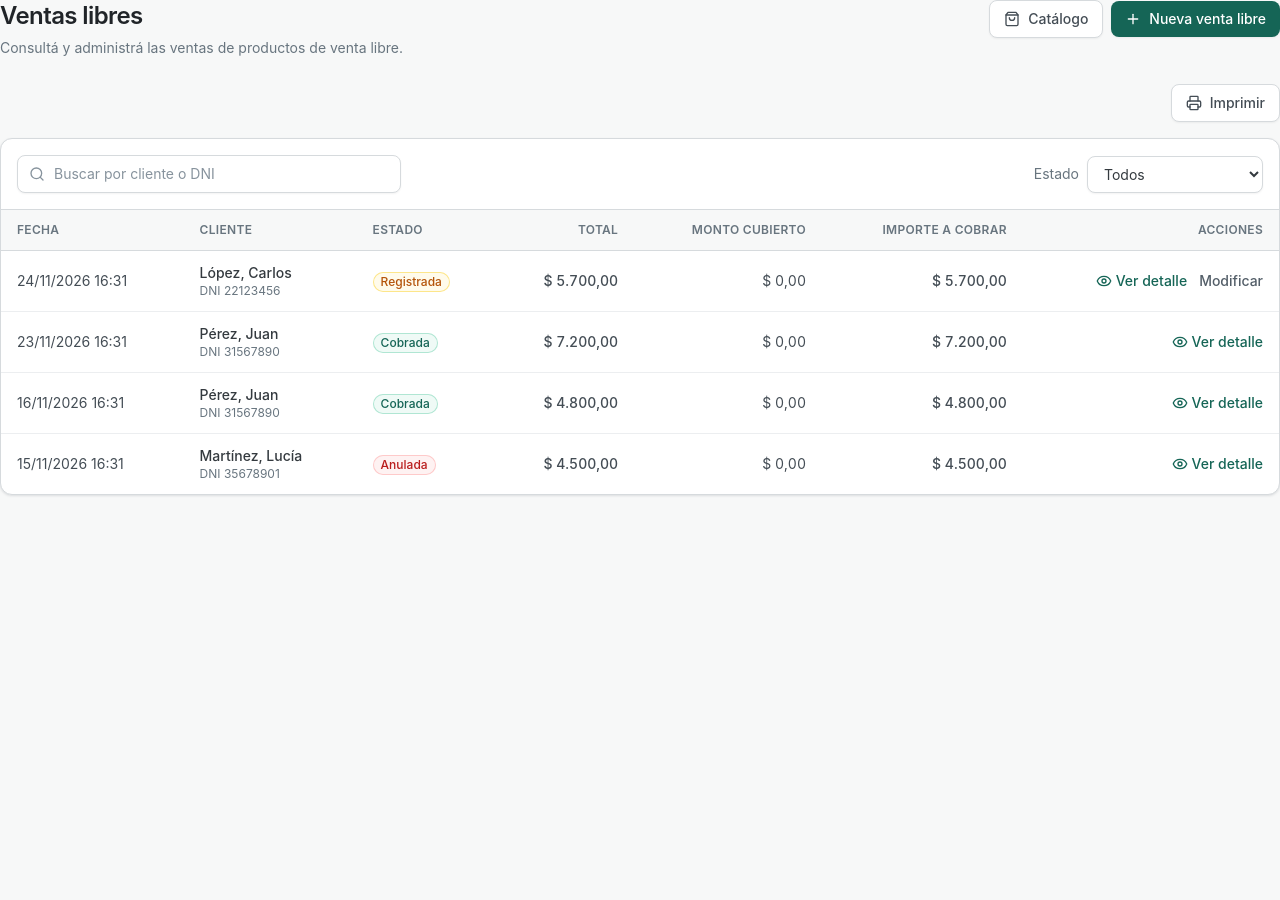
Test: la impresión respeta el filtro de ventas
Expected: the button "Imprimir" is enabled, left=1171, top=84, right=1279, bottom=122
Select "Registradas" in the dropdown labelled "Estado" at x=1175, y=174, box left=1087, top=156, right=1263, bottom=192
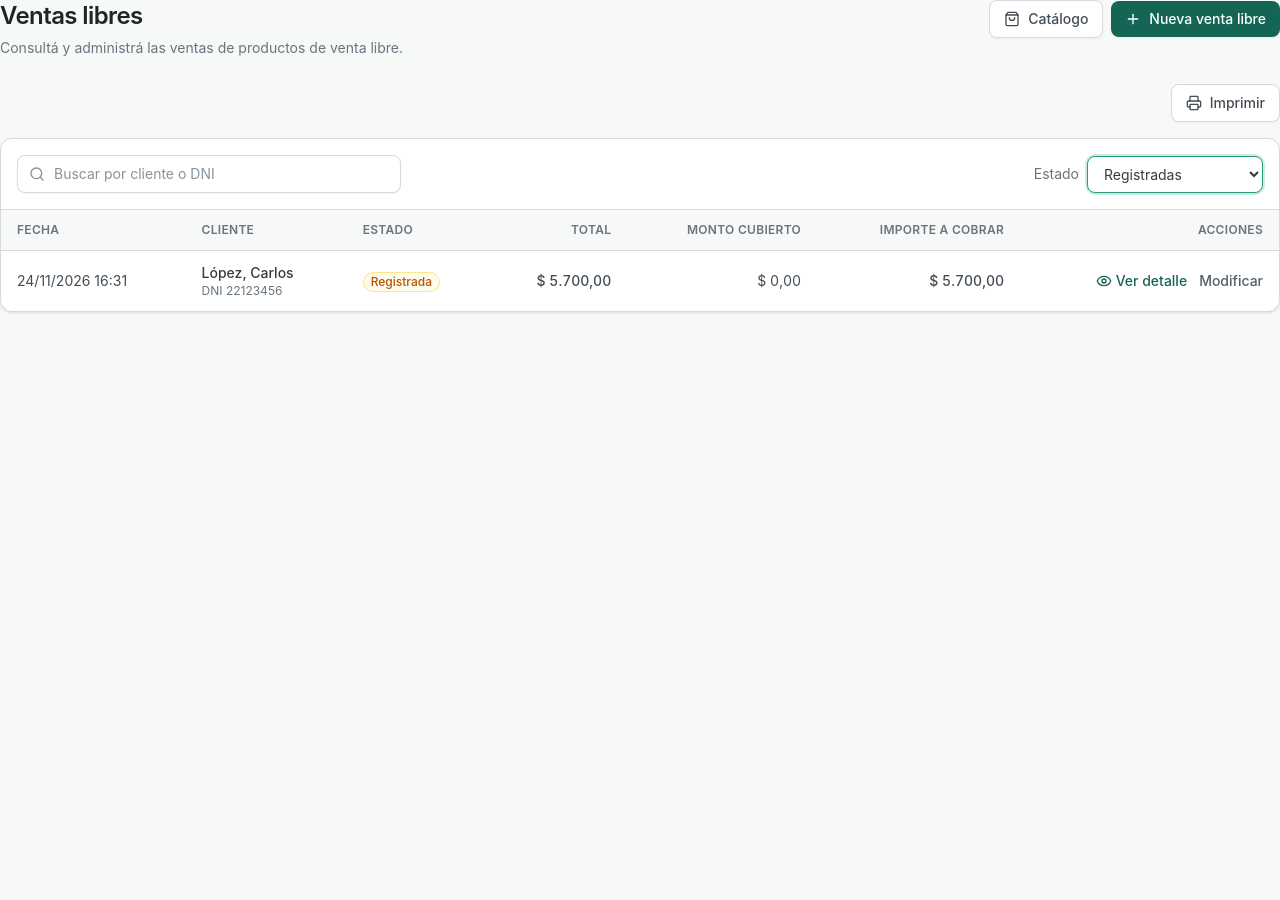
Expected: the row that starts with "López" is shown, left=1, top=250, right=1279, bottom=311
Click the button "Imprimir" at x=1225, y=103, box left=1171, top=84, right=1279, bottom=122
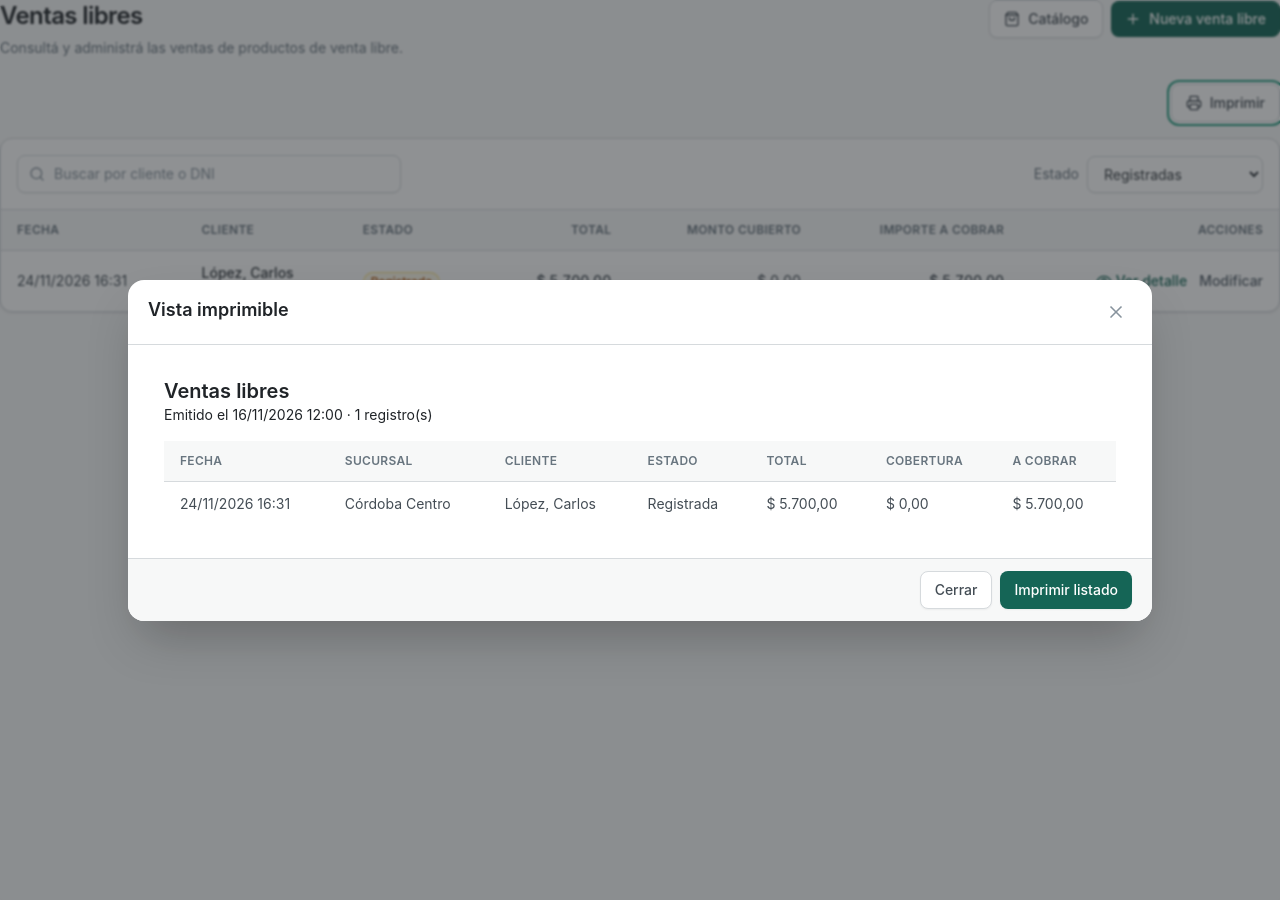
Expected: the text "Cobrada" is not shown
Now the text "Registrada" is shown once, box left=632, top=481, right=750, bottom=526
